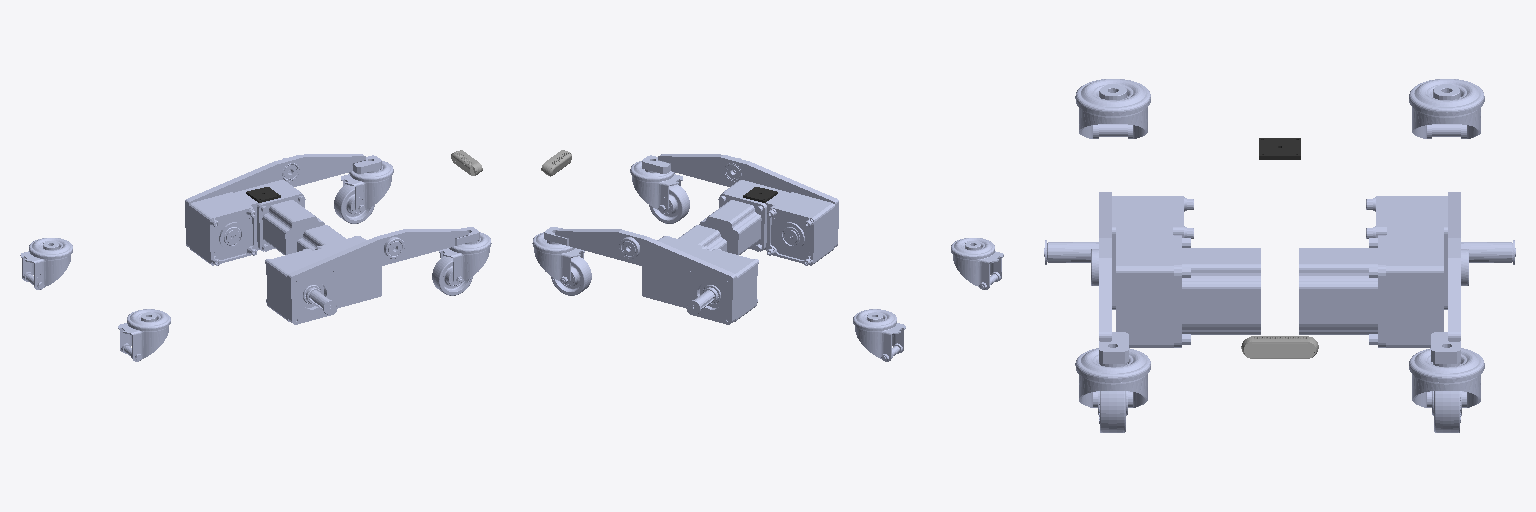
URDF robot description (smr100_description):
<?xml version="1.0" encoding="utf-8"?>
<!-- This URDF was automatically created by SolidWorks to URDF Exporter! Originally created by [author] ([email redacted]) 
     Commit Version: 1.5.1-0-g916b5db  Build Version: 1.5.7152.31018
     For more information, please see http://wiki.ros.org/sw_urdf_exporter -->
<robot
  name="smr100_description">
  <link
    name="base_link">
    <inertial>
      <origin
        xyz="-0.13174 -0.0068392 0.24389"
        rpy="0 0 0" />
      <mass
        value="25.187" />
      <inertia
        ixx="0.54256"
        ixy="0.0048343"
        ixz="-0.065286"
        iyy="1.8021"
        iyz="0.0024824"
        izz="2.1183" />
    </inertial>
    <visual>
      <origin
        xyz="0 0 0"
        rpy="0 0 0" />
      <geometry>
        <mesh
          filename="package://smr100_description/meshes/base_link.STL" />
      </geometry>
      <material
        name="">
        <color
          rgba="0.79216 0.81961 0.93333 1" />
      </material>
    </visual>
    <collision>
      <origin
        xyz="0 0 0"
        rpy="0 0 0" />
      <geometry>
        <mesh
          filename="package://smr100_description/meshes/base_link.STL" />
      </geometry>
    </collision>
  </link>
  <link
    name="swing_arm_left_link">
    <inertial>
      <origin
        xyz="-0.10084 -0.065718 -0.055036"
        rpy="0 0 0" />
      <mass
        value="2.7468" />
      <inertia
        ixx="0.009653"
        ixy="0.001222"
        ixz="-0.0013751"
        iyy="0.01841"
        iyz="-0.00083399"
        izz="0.022625" />
    </inertial>
    <visual>
      <origin
        xyz="0 0 0"
        rpy="0 0 0" />
      <geometry>
        <mesh
          filename="package://smr100_description/meshes/swing_arm_left_link.STL" />
      </geometry>
      <material
        name="">
        <color
          rgba="0.79216 0.81961 0.93333 1" />
      </material>
    </visual>
    <collision>
      <origin
        xyz="0 0 0"
        rpy="0 0 0" />
      <geometry>
        <mesh
          filename="package://smr100_description/meshes/swing_arm_left_link.STL" />
      </geometry>
    </collision>
  </link>
  <joint
    name="swing_arm_left_joint"
    type="revolute">
    <origin
      xyz="0.18079 0.2075 0.139"
      rpy="0 -0.02739 0" />
    <parent
      link="base_link" />
    <child
      link="swing_arm_left_link" />
    <axis
      xyz="0 1 0" />
    <limit
      lower="-0.087267"
      upper="0.087267"
      effort="0"
      velocity="0" />
  </joint>
  <link
    name="wheel_left_link">
    <inertial>
      <origin
        xyz="5.7206E-08 3.3262E-05 -9.2679E-05"
        rpy="0 0 0" />
      <mass
        value="4.9554" />
      <inertia
        ixx="0.0087272"
        ixy="-4.3288E-09"
        ixz="-2.7053E-08"
        iyy="0.01571"
        iyz="2.8551E-06"
        izz="0.0087185" />
    </inertial>
    <visual>
      <origin
        xyz="0 0 0"
        rpy="0 0 0" />
      <geometry>
        <mesh
          filename="package://smr100_description/meshes/wheel_left_link.STL" />
      </geometry>
      <material
        name="">
        <color
          rgba="0.79216 0.79216 0.79216 1" />
      </material>
    </visual>
    <collision>
      <origin
        xyz="0 0 0"
        rpy="0 0 0" />
      <geometry>
        <mesh
          filename="package://smr100_description/meshes/wheel_left_link.STL" />
      </geometry>
    </collision>
  </link>
  <joint
    name="wheel_left_joint"
    type="continuous">
    <origin
      xyz="-0.1825 0.033 -0.06"
      rpy="0 0.02739 0" />
    <parent
      link="swing_arm_left_link" />
    <child
      link="wheel_left_link" />
    <axis
      xyz="0 1 0" />
  </joint>
  <link
    name="caster_front_left_arm_link">
    <inertial>
      <origin
        xyz="-0.0083903 6.7887E-05 -0.021963"
        rpy="0 0 0" />
      <mass
        value="0.11992" />
      <inertia
        ixx="0.00011954"
        ixy="2.5959E-07"
        ixz="-3.37E-05"
        iyy="0.00013155"
        iyz="3.8727E-07"
        izz="0.0001378" />
    </inertial>
    <visual>
      <origin
        xyz="0 0 0"
        rpy="0 0 0" />
      <geometry>
        <mesh
          filename="package://smr100_description/meshes/caster_front_left_arm_link.STL" />
      </geometry>
      <material
        name="">
        <color
          rgba="0.79216 0.81961 0.93333 1" />
      </material>
    </visual>
    <collision>
      <origin
        xyz="0 0 0"
        rpy="0 0 0" />
      <geometry>
        <mesh
          filename="package://smr100_description/meshes/caster_front_left_arm_link.STL" />
      </geometry>
    </collision>
  </link>
  <joint
    name="caster_front_left_arm_joint"
    type="continuous">
    <origin
      xyz="0.1825 -0.0135 -0.035"
      rpy="0 0 0" />
    <parent
      link="swing_arm_left_link" />
    <child
      link="caster_front_left_arm_link" />
    <axis
      xyz="0 0 1" />
  </joint>
  <link
    name="caster_front_left_wheel_link">
    <inertial>
      <origin
        xyz="9.9956E-06 1.0025E-05 -3.3897E-05"
        rpy="0 0 0" />
      <mass
        value="0.10623" />
      <inertia
        ixx="5.3146E-05"
        ixy="-1.3417E-08"
        ixz="-1.9842E-09"
        iyy="9.0791E-05"
        iyz="1.1592E-08"
        izz="5.3158E-05" />
    </inertial>
    <visual>
      <origin
        xyz="0 0 0"
        rpy="0 0 0" />
      <geometry>
        <mesh
          filename="package://smr100_description/meshes/caster_front_left_wheel_link.STL" />
      </geometry>
      <material
        name="">
        <color
          rgba="0.79216 0.81961 0.93333 1" />
      </material>
    </visual>
    <collision>
      <origin
        xyz="0 0 0"
        rpy="0 0 0" />
      <geometry>
        <mesh
          filename="package://smr100_description/meshes/caster_front_left_wheel_link.STL" />
      </geometry>
    </collision>
  </link>
  <joint
    name="caster_front_left_wheel_joint"
    type="continuous">
    <origin
      xyz="-0.04 0.0005 -0.07"
      rpy="0 0.02739 0" />
    <parent
      link="caster_front_left_arm_link" />
    <child
      link="caster_front_left_wheel_link" />
    <axis
      xyz="0 1 0" />
  </joint>
  <link
    name="swing_arm_right_link">
    <inertial>
      <origin
        xyz="-0.10084 0.065718 -0.055036"
        rpy="0 0 0" />
      <mass
        value="2.7468" />
      <inertia
        ixx="0.009653"
        ixy="-0.001222"
        ixz="-0.0013751"
        iyy="0.01841"
        iyz="0.00083399"
        izz="0.022625" />
    </inertial>
    <visual>
      <origin
        xyz="0 0 0"
        rpy="0 0 0" />
      <geometry>
        <mesh
          filename="package://smr100_description/meshes/swing_arm_right_link.STL" />
      </geometry>
      <material
        name="">
        <color
          rgba="0.79216 0.81961 0.93333 1" />
      </material>
    </visual>
    <collision>
      <origin
        xyz="0 0 0"
        rpy="0 0 0" />
      <geometry>
        <mesh
          filename="package://smr100_description/meshes/swing_arm_right_link.STL" />
      </geometry>
    </collision>
  </link>
  <joint
    name="swing_arm_right_joint"
    type="continuous">
    <origin
      xyz="0.18079 -0.2075 0.139"
      rpy="0 -0.02739 0" />
    <parent
      link="base_link" />
    <child
      link="swing_arm_right_link" />
    <axis
      xyz="0 -1 0" />
    <limit
      lower="-0.087267"
      upper="0.087267"
      effort="0"
      velocity="0" />
  </joint>
  <link
    name="wheel_right_link">
    <inertial>
      <origin
        xyz="-5.7206E-08 -3.3262E-05 -9.2679E-05"
        rpy="0 0 0" />
      <mass
        value="4.9554" />
      <inertia
        ixx="0.0087272"
        ixy="-4.3288E-09"
        ixz="2.7053E-08"
        iyy="0.01571"
        iyz="-2.8551E-06"
        izz="0.0087185" />
    </inertial>
    <visual>
      <origin
        xyz="0 0 0"
        rpy="0 0 0" />
      <geometry>
        <mesh
          filename="package://smr100_description/meshes/wheel_right_link.STL" />
      </geometry>
      <material
        name="">
        <color
          rgba="0.79216 0.79216 0.79216 1" />
      </material>
    </visual>
    <collision>
      <origin
        xyz="0 0 0"
        rpy="0 0 0" />
      <geometry>
        <mesh
          filename="package://smr100_description/meshes/wheel_right_link.STL" />
      </geometry>
    </collision>
  </link>
  <joint
    name="wheel_right_joint"
    type="continuous">
    <origin
      xyz="-0.1825 -0.033 -0.06"
      rpy="0 0.02739 0" />
    <parent
      link="swing_arm_right_link" />
    <child
      link="wheel_right_link" />
    <axis
      xyz="0 -1 0" />
  </joint>
  <link
    name="caster_front_right_arm_link">
    <inertial>
      <origin
        xyz="-0.0083904 -6.7793E-05 -0.021963"
        rpy="0 0 0" />
      <mass
        value="0.11992" />
      <inertia
        ixx="0.00011954"
        ixy="-2.59E-07"
        ixz="-3.37E-05"
        iyy="0.00013155"
        iyz="-3.8722E-07"
        izz="0.0001378" />
    </inertial>
    <visual>
      <origin
        xyz="0 0 0"
        rpy="0 0 0" />
      <geometry>
        <mesh
          filename="package://smr100_description/meshes/caster_front_right_arm_link.STL" />
      </geometry>
      <material
        name="">
        <color
          rgba="0.79216 0.81961 0.93333 1" />
      </material>
    </visual>
    <collision>
      <origin
        xyz="0 0 0"
        rpy="0 0 0" />
      <geometry>
        <mesh
          filename="package://smr100_description/meshes/caster_front_right_arm_link.STL" />
      </geometry>
    </collision>
  </link>
  <joint
    name="caster_front_right_arm_joint"
    type="continuous">
    <origin
      xyz="0.1825 0.0135 -0.035"
      rpy="0 0 0" />
    <parent
      link="swing_arm_right_link" />
    <child
      link="caster_front_right_arm_link" />
    <axis
      xyz="0 0 1" />
  </joint>
  <link
    name="caster_front_right_wheel_link">
    <inertial>
      <origin
        xyz="9.9956E-06 -1.0025E-05 3.3897E-05"
        rpy="0 0 0" />
      <mass
        value="0.10623" />
      <inertia
        ixx="5.3146E-05"
        ixy="1.3417E-08"
        ixz="1.9842E-09"
        iyy="9.0791E-05"
        iyz="1.1592E-08"
        izz="5.3158E-05" />
    </inertial>
    <visual>
      <origin
        xyz="0 0 0"
        rpy="0 0 0" />
      <geometry>
        <mesh
          filename="package://smr100_description/meshes/caster_front_right_wheel_link.STL" />
      </geometry>
      <material
        name="">
        <color
          rgba="0.79216 0.81961 0.93333 1" />
      </material>
    </visual>
    <collision>
      <origin
        xyz="0 0 0"
        rpy="0 0 0" />
      <geometry>
        <mesh
          filename="package://smr100_description/meshes/caster_front_right_wheel_link.STL" />
      </geometry>
    </collision>
  </link>
  <joint
    name="caster_front_right_wheel_joint"
    type="continuous">
    <origin
      xyz="-0.04 -0.0005 -0.07"
      rpy="0 0.02739 0" />
    <parent
      link="caster_front_right_arm_link" />
    <child
      link="caster_front_right_wheel_link" />
    <axis
      xyz="0 -1 0" />
  </joint>
  <link
    name="caster_rear_left_arm_link">
    <inertial>
      <origin
        xyz="-0.0083903 6.7891E-05 -0.021963"
        rpy="0 0 0" />
      <mass
        value="0.11992" />
      <inertia
        ixx="0.00011954"
        ixy="2.5958E-07"
        ixz="-3.37E-05"
        iyy="0.00013155"
        iyz="3.8728E-07"
        izz="0.0001378" />
    </inertial>
    <visual>
      <origin
        xyz="0 0 0"
        rpy="0 0 0" />
      <geometry>
        <mesh
          filename="package://smr100_description/meshes/caster_rear_left_arm_link.STL" />
      </geometry>
      <material
        name="">
        <color
          rgba="0.79216 0.81961 0.93333 1" />
      </material>
    </visual>
    <collision>
      <origin
        xyz="0 0 0"
        rpy="0 0 0" />
      <geometry>
        <mesh
          filename="package://smr100_description/meshes/caster_rear_left_arm_link.STL" />
      </geometry>
    </collision>
  </link>
  <joint
    name="caster_rear_left_arm_joint"
    type="continuous">
    <origin
      xyz="-0.36921 0.194 0.11"
      rpy="0 0 0" />
    <parent
      link="base_link" />
    <child
      link="caster_rear_left_arm_link" />
    <axis
      xyz="0 0 1" />
  </joint>
  <link
    name="caster_rear_left_wheel_link">
    <inertial>
      <origin
        xyz="9.9956E-06 1.0025E-05 -3.3897E-05"
        rpy="0 0 0" />
      <mass
        value="0.10623" />
      <inertia
        ixx="5.3146E-05"
        ixy="-1.3417E-08"
        ixz="-1.9842E-09"
        iyy="9.0791E-05"
        iyz="1.1592E-08"
        izz="5.3158E-05" />
    </inertial>
    <visual>
      <origin
        xyz="0 0 0"
        rpy="0 0 0" />
      <geometry>
        <mesh
          filename="package://smr100_description/meshes/caster_rear_left_wheel_link.STL" />
      </geometry>
      <material
        name="">
        <color
          rgba="0.79216 0.81961 0.93333 1" />
      </material>
    </visual>
    <collision>
      <origin
        xyz="0 0 0"
        rpy="0 0 0" />
      <geometry>
        <mesh
          filename="package://smr100_description/meshes/caster_rear_left_wheel_link.STL" />
      </geometry>
    </collision>
  </link>
  <joint
    name="caster_rear_left_wheel_joint"
    type="continuous">
    <origin
      xyz="-0.04 -0.0005 -0.07"
      rpy="0 0 0" />
    <parent
      link="caster_rear_left_arm_link" />
    <child
      link="caster_rear_left_wheel_link" />
    <axis
      xyz="0 1 0" />
  </joint>
  <link
    name="caster_rear_right_arm_link">
    <inertial>
      <origin
        xyz="-0.0083903 6.7891E-05 -0.021963"
        rpy="0 0 0" />
      <mass
        value="0.11992" />
      <inertia
        ixx="0.00011954"
        ixy="2.5958E-07"
        ixz="-3.37E-05"
        iyy="0.00013155"
        iyz="3.8728E-07"
        izz="0.0001378" />
    </inertial>
    <visual>
      <origin
        xyz="0 0 0"
        rpy="0 0 0" />
      <geometry>
        <mesh
          filename="package://smr100_description/meshes/caster_rear_right_arm_link.STL" />
      </geometry>
      <material
        name="">
        <color
          rgba="0.79216 0.81961 0.93333 1" />
      </material>
    </visual>
    <collision>
      <origin
        xyz="0 0 0"
        rpy="0 0 0" />
      <geometry>
        <mesh
          filename="package://smr100_description/meshes/caster_rear_right_arm_link.STL" />
      </geometry>
    </collision>
  </link>
  <joint
    name="caster_rear_right_arm_joint"
    type="continuous">
    <origin
      xyz="-0.36921 -0.194 0.11"
      rpy="0 0 0" />
    <parent
      link="base_link" />
    <child
      link="caster_rear_right_arm_link" />
    <axis
      xyz="0 0 1" />
  </joint>
  <link
    name="caster_rear_right_wheel_link">
    <inertial>
      <origin
        xyz="9.9956E-06 1.0025E-05 -3.3897E-05"
        rpy="0 0 0" />
      <mass
        value="0.10623" />
      <inertia
        ixx="5.3146E-05"
        ixy="-1.3417E-08"
        ixz="-1.9842E-09"
        iyy="9.0791E-05"
        iyz="1.1592E-08"
        izz="5.3158E-05" />
    </inertial>
    <visual>
      <origin
        xyz="0 0 0"
        rpy="0 0 0" />
      <geometry>
        <mesh
          filename="package://smr100_description/meshes/caster_rear_right_wheel_link.STL" />
      </geometry>
      <material
        name="">
        <color
          rgba="0.79216 0.81961 0.93333 1" />
      </material>
    </visual>
    <collision>
      <origin
        xyz="0 0 0"
        rpy="0 0 0" />
      <geometry>
        <mesh
          filename="package://smr100_description/meshes/caster_rear_right_wheel_link.STL" />
      </geometry>
    </collision>
  </link>
  <joint
    name="caster_rear_right_wheel_joint"
    type="continuous">
    <origin
      xyz="-0.04 -0.0005 -0.07"
      rpy="0 0 0" />
    <parent
      link="caster_rear_right_arm_link" />
    <child
      link="caster_rear_right_wheel_link" />
    <axis
      xyz="0 -1 0" />
  </joint>
  <link
    name="lidar_front_right_link">
    <inertial>
      <origin
        xyz="-0.00014857 3.531E-06 -0.012585"
        rpy="0 0 0" />
      <mass
        value="0.093468" />
      <inertia
        ixx="6.7105E-05"
        ixy="-5.391E-09"
        ixz="-1.4135E-07"
        iyy="6.7316E-05"
        iyz="-1.3639E-08"
        izz="0.00010178" />
    </inertial>
    <visual>
      <origin
        xyz="0 0 0"
        rpy="0 0 0" />
      <geometry>
        <mesh
          filename="package://smr100_description/meshes/lidar_front_right_link.STL" />
      </geometry>
      <material
        name="">
        <color
          rgba="1 0.50196 0.50196 1" />
      </material>
    </visual>
    <collision>
      <origin
        xyz="0 0 0"
        rpy="0 0 0" />
      <geometry>
        <mesh
          filename="package://smr100_description/meshes/lidar_front_right_link.STL" />
      </geometry>
    </collision>
  </link>
  <joint
    name="lidar_front_right_joint"
    type="fixed">
    <origin
      xyz="0.43779 -0.245 0.20485"
      rpy="0 0 0" />
    <parent
      link="base_link" />
    <child
      link="lidar_front_right_link" />
    <axis
      xyz="0 0 0" />
  </joint>
  <link
    name="lidar_rear_left_link">
    <inertial>
      <origin
        xyz="-0.00014857 3.531E-06 -0.012585"
        rpy="0 0 0" />
      <mass
        value="0.093468" />
      <inertia
        ixx="6.7105E-05"
        ixy="-5.391E-09"
        ixz="-1.4135E-07"
        iyy="6.7316E-05"
        iyz="-1.3639E-08"
        izz="0.00010178" />
    </inertial>
    <visual>
      <origin
        xyz="0 0 0"
        rpy="0 0 0" />
      <geometry>
        <mesh
          filename="package://smr100_description/meshes/lidar_rear_left_link.STL" />
      </geometry>
      <material
        name="">
        <color
          rgba="1 0.50196 0.50196 1" />
      </material>
    </visual>
    <collision>
      <origin
        xyz="0 0 0"
        rpy="0 0 0" />
      <geometry>
        <mesh
          filename="package://smr100_description/meshes/lidar_rear_left_link.STL" />
      </geometry>
    </collision>
  </link>
  <joint
    name="lidar_rear_left_joint"
    type="fixed">
    <origin
      xyz="-0.43421 0.245 0.20485"
      rpy="0 0 -3.1416" />
    <parent
      link="base_link" />
    <child
      link="lidar_rear_left_link" />
    <axis
      xyz="0 0 0" />
  </joint>
  <link
    name="depth_cam_front_link">
    <inertial>
      <origin
        xyz="0.0015077 0.001406 0.012477"
        rpy="0 0 0" />
      <mass
        value="0.28631" />
      <inertia
        ixx="0.00018371"
        ixy="1.6508E-06"
        ixz="7.9725E-08"
        iyy="2.7523E-05"
        iyz="1.3439E-08"
        izz="0.00018535" />
    </inertial>
    <visual>
      <origin
        xyz="0 0 0"
        rpy="0 0 0" />
      <geometry>
        <mesh
          filename="package://smr100_description/meshes/depth_cam_front_link.STL" />
      </geometry>
      <material
        name="">
        <color
          rgba="0.70196 0.70196 0.70196 1" />
      </material>
    </visual>
    <collision>
      <origin
        xyz="0 0 0"
        rpy="0 0 0" />
      <geometry>
        <mesh
          filename="package://smr100_description/meshes/depth_cam_front_link.STL" />
      </geometry>
    </collision>
  </link>
  <joint
    name="depth_cam_front_joint"
    type="fixed">
    <origin
      xyz="0.47125 0 0.1578"
      rpy="0 -0.24718 0" />
    <parent
      link="base_link" />
    <child
      link="depth_cam_front_link" />
    <axis
      xyz="0 0 0" />
  </joint>
  <link
    name="imu_link">
    <inertial>
      <origin
        xyz="6.0715E-18 3.5513E-18 -0.0025"
        rpy="0 0 0" />
      <mass
        value="0.01693" />
      <inertia
        ixx="3.5506E-06"
        ixy="-5.657E-22"
        ixz="-2.8071E-26"
        iyy="3.5472E-06"
        iyz="-6.7074E-24"
        izz="7.0272E-06" />
    </inertial>
    <visual>
      <origin
        xyz="0 0 0"
        rpy="0 0 0" />
      <geometry>
        <mesh
          filename="package://smr100_description/meshes/imu_link.STL" />
      </geometry>
      <material
        name="">
        <color
          rgba="0.25098 0.25098 0.25098 1" />
      </material>
    </visual>
    <collision>
      <origin
        xyz="0 0 0"
        rpy="0 0 0" />
      <geometry>
        <mesh
          filename="package://smr100_description/meshes/imu_link.STL" />
      </geometry>
    </collision>
  </link>
  <joint
    name="imu_joint"
    type="fixed">
    <origin
      xyz="0.005288 0 0.212"
      rpy="0 0 0" />
    <parent
      link="base_link" />
    <child
      link="imu_link" />
    <axis
      xyz="0 0 0" />
  </joint>
</robot>

--- Facts derived from the render (not from the file) ---
The picture shows the robot from 3 angles, left to right: view 1: azimuth 30°, elevation 25°; view 2: azimuth 150°, elevation 25°; view 3: azimuth 270°, elevation 25°; orthographic projection.
Model smr100_description with 17 links and 16 joints (1 revolute, 11 continuous, 4 fixed), rooted at base_link, posed all joints at 0.
Links seen in each view (by area): view 1: swing_arm_left_link, swing_arm_right_link, caster_rear_right_arm_link, caster_rear_left_arm_link, caster_front_left_arm_link, caster_front_right_arm_link, caster_front_right_wheel_link, caster_front_left_wheel_link; view 2: swing_arm_right_link, swing_arm_left_link, caster_rear_right_arm_link, caster_rear_left_arm_link, caster_front_right_arm_link, caster_front_left_arm_link, caster_front_left_wheel_link, caster_front_right_wheel_link; view 3: swing_arm_left_link, swing_arm_right_link, caster_rear_left_arm_link, caster_rear_right_arm_link, caster_front_left_arm_link, caster_front_right_arm_link, depth_cam_front_link, caster_front_left_wheel_link, caster_front_right_wheel_link, imu_link.
Link boxes in pixels (x1,y1,x2,y2): swing_arm_left_link: (185, 154, 381, 265); swing_arm_right_link: (265, 225, 479, 324); caster_rear_right_arm_link: (118, 309, 170, 361); caster_rear_left_arm_link: (20, 238, 72, 289); caster_front_left_arm_link: (341, 161, 393, 212); caster_front_right_arm_link: (439, 232, 491, 284); caster_front_right_wheel_link: (432, 256, 472, 295); caster_front_left_wheel_link: (334, 184, 374, 223); swing_arm_right_link: (642, 154, 838, 265); swing_arm_left_link: (544, 225, 758, 324); caster_rear_right_arm_link: (951, 238, 1003, 289); caster_rear_left_arm_link: (853, 309, 905, 361); caster_front_right_arm_link: (630, 161, 682, 212); caster_front_left_arm_link: (532, 232, 584, 284); caster_front_left_wheel_link: (551, 256, 591, 295); caster_front_right_wheel_link: (649, 184, 689, 223); swing_arm_left_link: (1299, 192, 1515, 363); swing_arm_right_link: (1044, 192, 1260, 363); caster_rear_left_arm_link: (1409, 79, 1484, 138); caster_rear_right_arm_link: (1075, 79, 1150, 138); caster_front_left_arm_link: (1409, 348, 1484, 407); caster_front_right_arm_link: (1075, 348, 1150, 407); depth_cam_front_link: (1241, 336, 1318, 358); caster_front_left_wheel_link: (1432, 391, 1461, 432); caster_front_right_wheel_link: (1098, 391, 1127, 432); imu_link: (1259, 138, 1300, 159).
Bounding box of the posed robot: 0.9183 × 0.5478 × 0.214 m (x, y, z).
10 mesh visuals loaded from 17 distinct referenced files (10 binary STL); not drawn: 7 (reference not matched to a file when rendering).